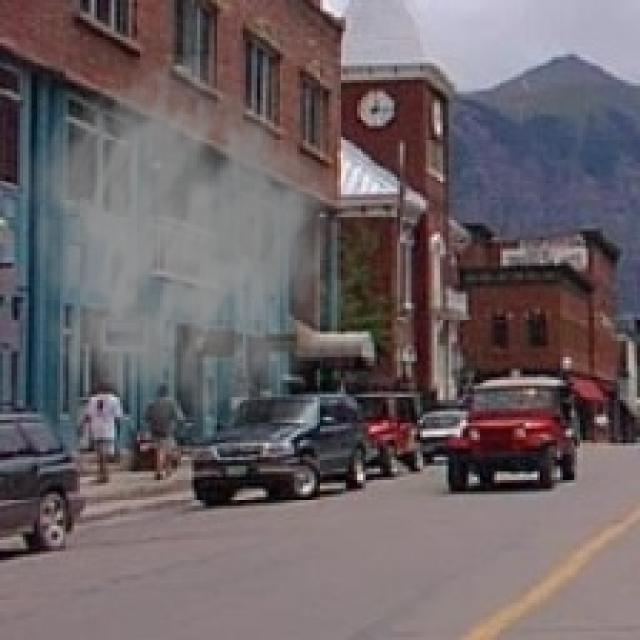smoke: (17, 51, 363, 468)
